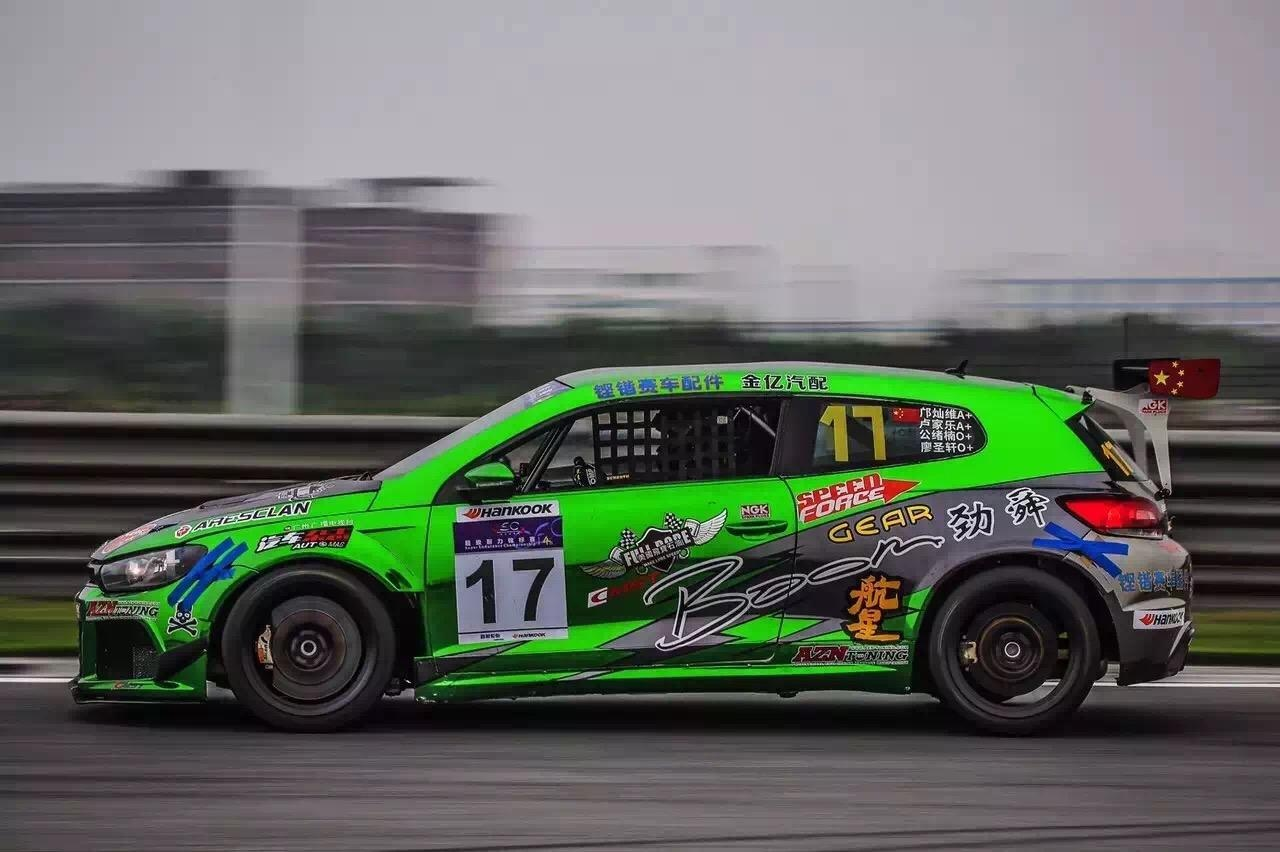racing car: (71, 307, 1187, 742)
